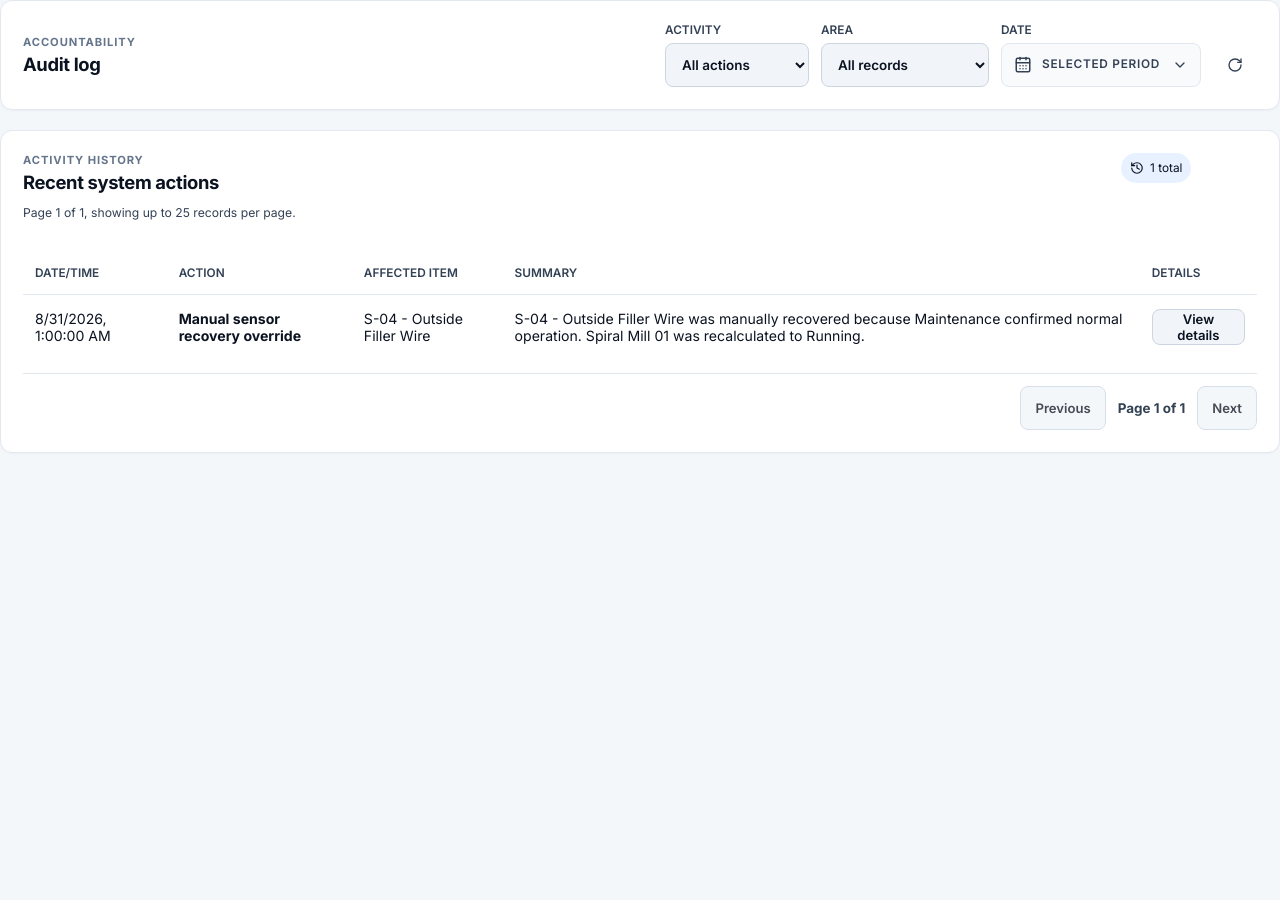
AuditSection › shows manual recovery reason in readable details
Click the button "View details": (1198, 327) [1152,309,1245,345]
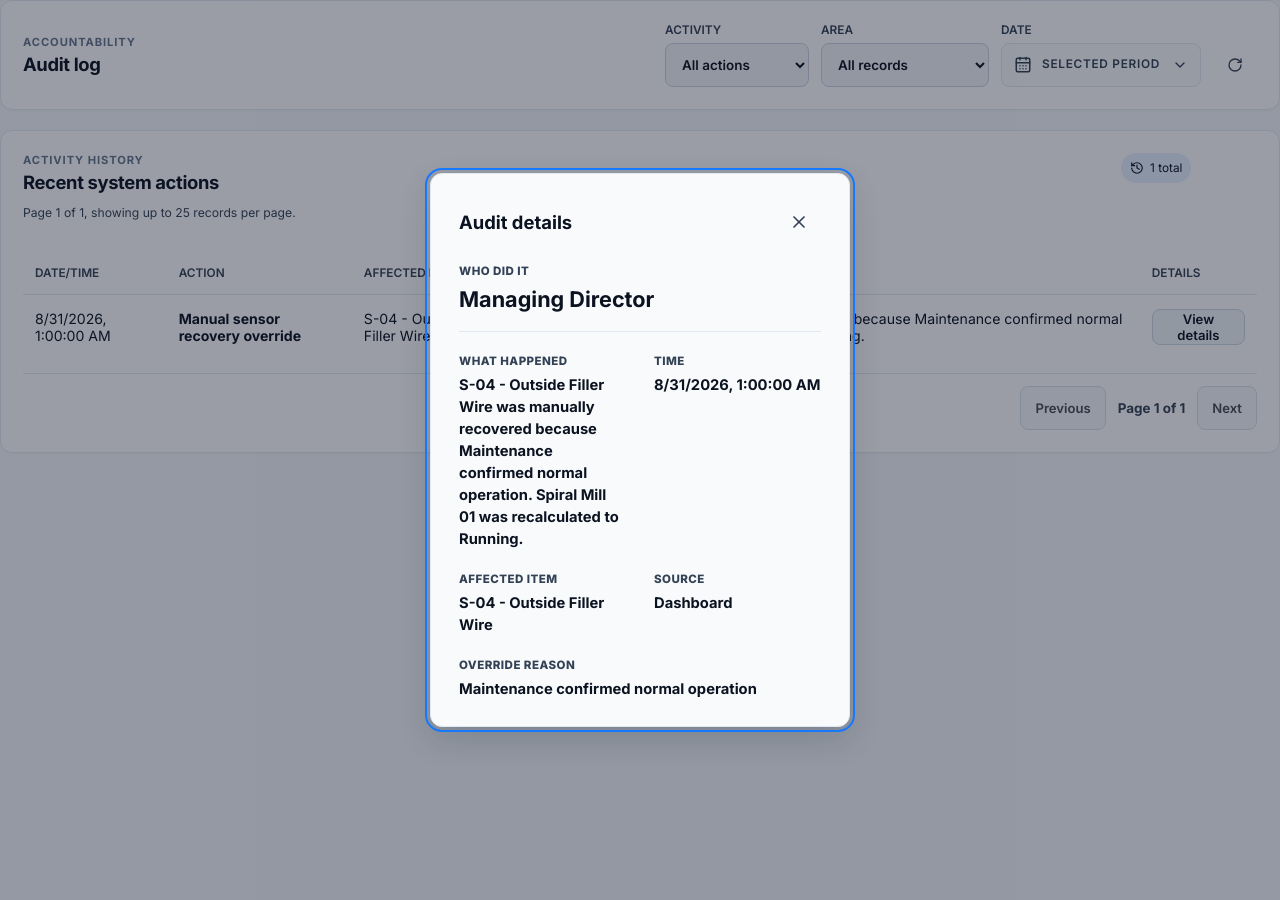
Expected: the text "Override reason" is shown, [459,658,575,672]
Expected: the text "Maintenance confirmed normal operation" is shown, [459,680,757,698]
Expected: the text "Managing Director" is shown, [459,286,654,312]
